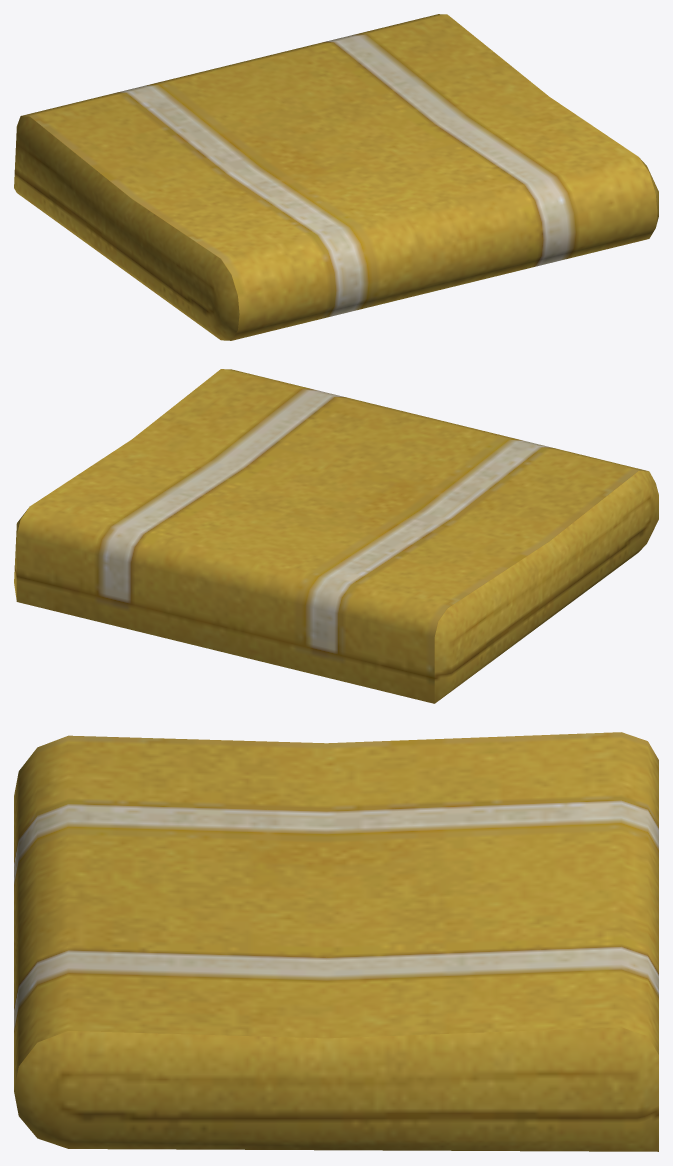
File: p6_pool_towel_folded_01_lod0.glb
The picture shows the model from 3 angles, top to bottom: view 1: azimuth 30°, elevation 25°; view 2: azimuth 150°, elevation 25°; view 3: azimuth 270°, elevation 25°; orthographic projection. The views are drawn at different scales.
Visible parts, largest first — view 1: surf0; view 2: surf0; view 3: surf0.
Boxes of the visible parts, bbox=[...] form: surf0: bbox=[14, 14, 658, 340]; surf0: bbox=[14, 369, 658, 703]; surf0: bbox=[14, 732, 658, 1151].
Size of the model in its own units: 22.4 by 4.21 by 19.78.
